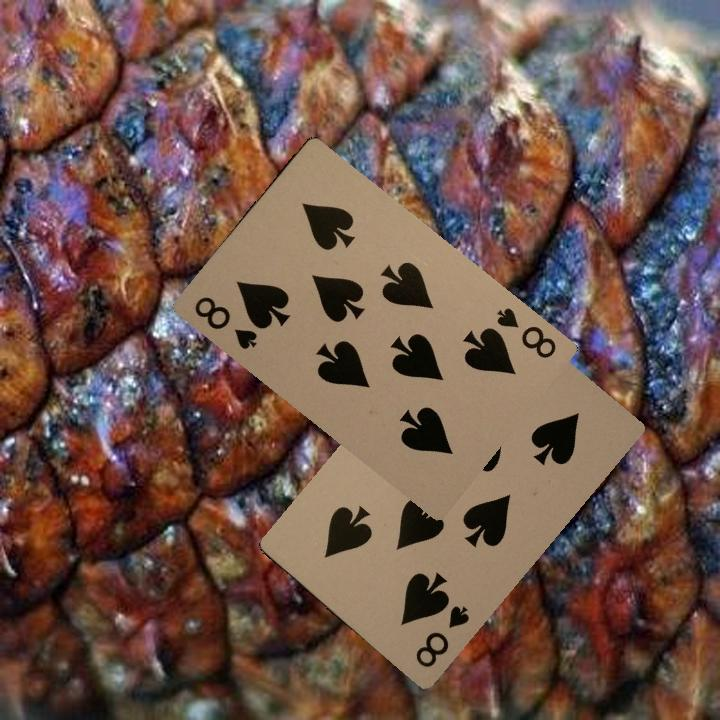8s: (411, 601, 473, 670), (190, 292, 260, 352), (492, 303, 559, 361)
